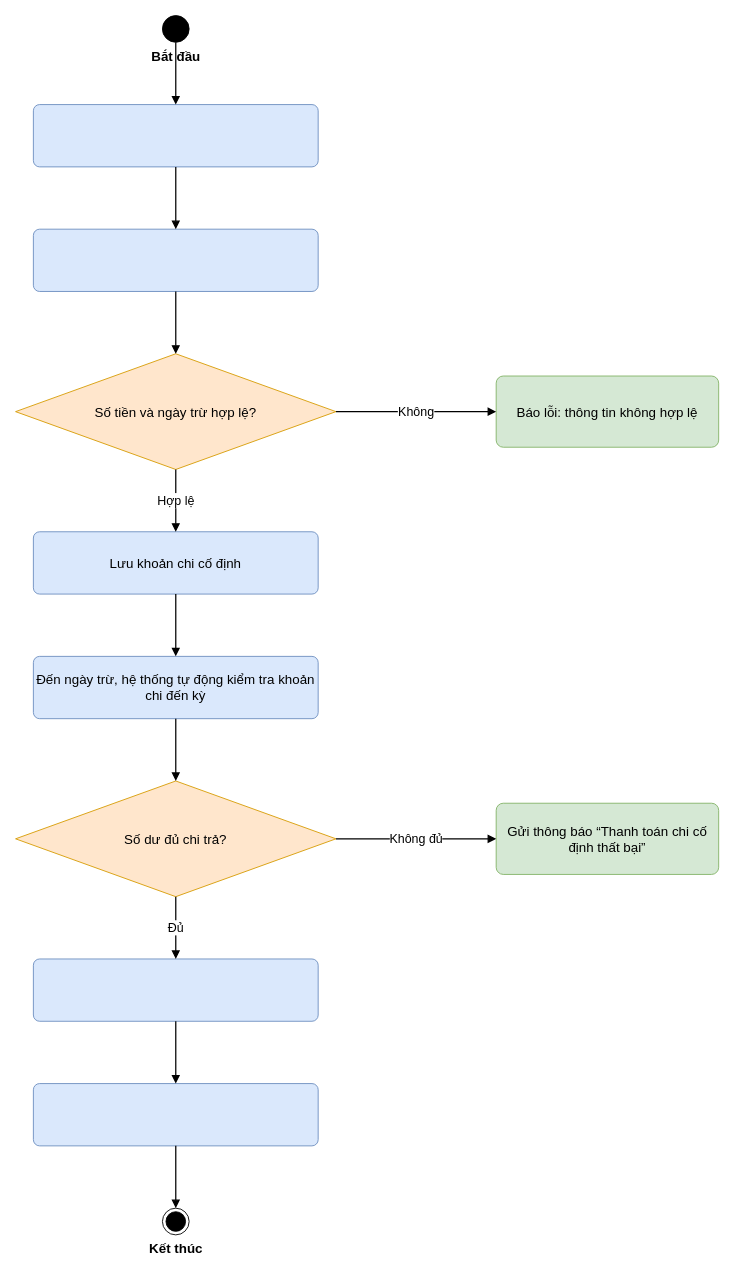
The diagram is 734 pixels wide and 1273 high, and some of its shapes have lost their labels. The centre of each missing label's shape, as x and y in pixels:
"Gửi thông báo “Đã thanh toán chi cố định”" goes at [175,1114].
"Mở trang Chi cố định, bấm “Thêm khoản chi”" goes at [175,135].
"Nhập số tiền, danh mục, ghi chú và ngày trừ tiền" goes at [175,259].
"Tạo giao dịch Chi và cập nhật ngày đã trừ gần nhất" goes at [175,989].
